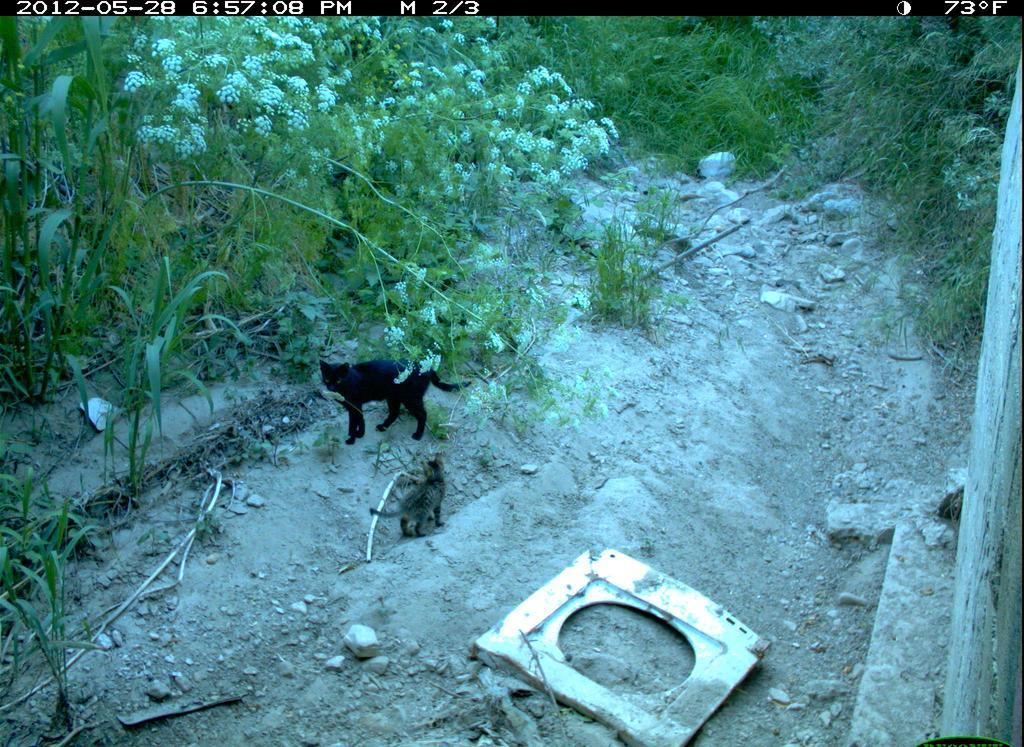cat: (313, 350, 474, 450), (363, 455, 468, 547)
